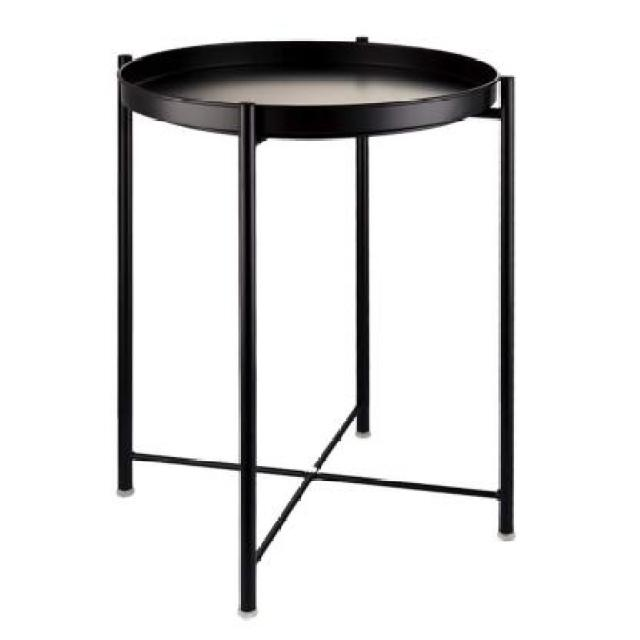table: (116, 36, 515, 619)
